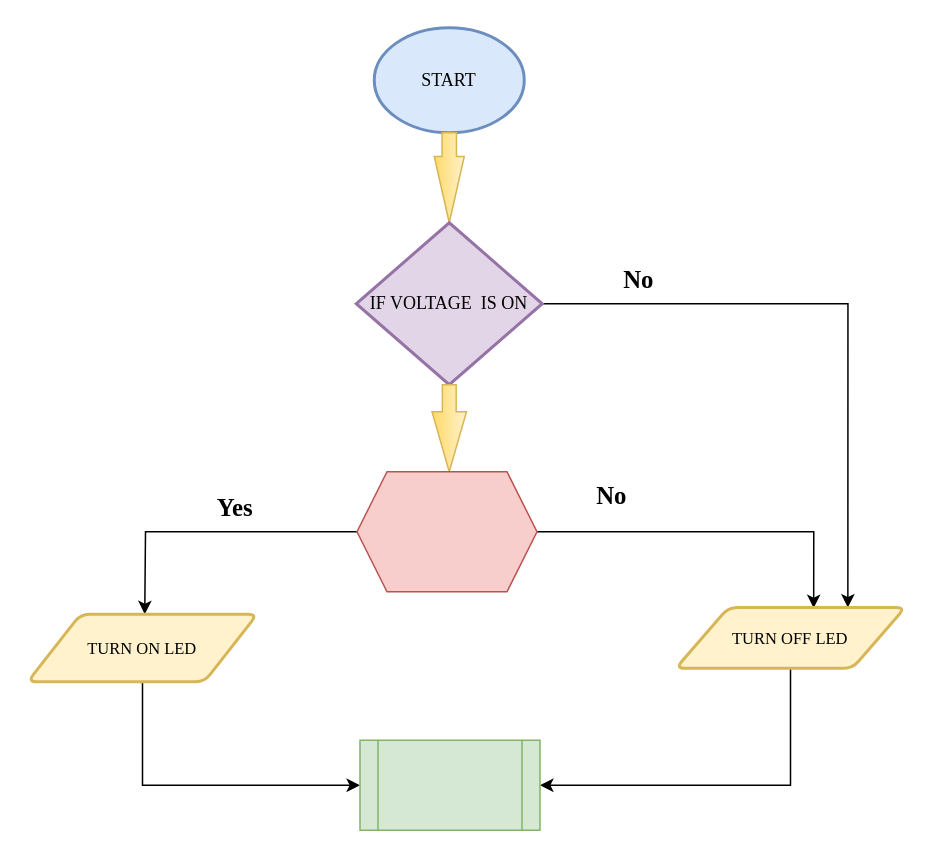
The diagram is 932 pixels wide and 857 high, and some of its shapes have lost their labels. The centre of each missing label's shape, as x and y in pixels:
"END" goes at pixel 449 784.
"IF SWITCH IS OPEN" goes at pixel 446 531.
